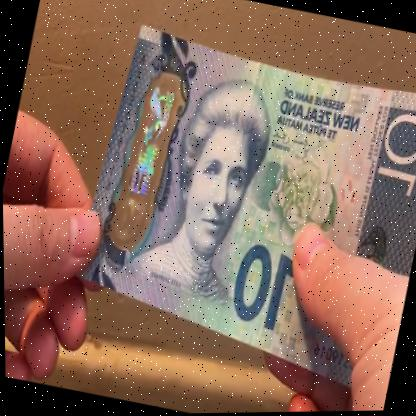10B: (108, 78, 182, 241)
